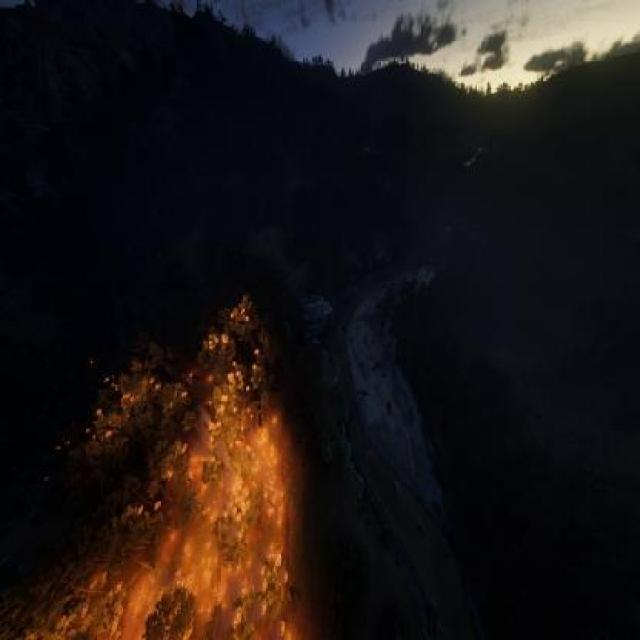Fire: (14, 286, 330, 640)
